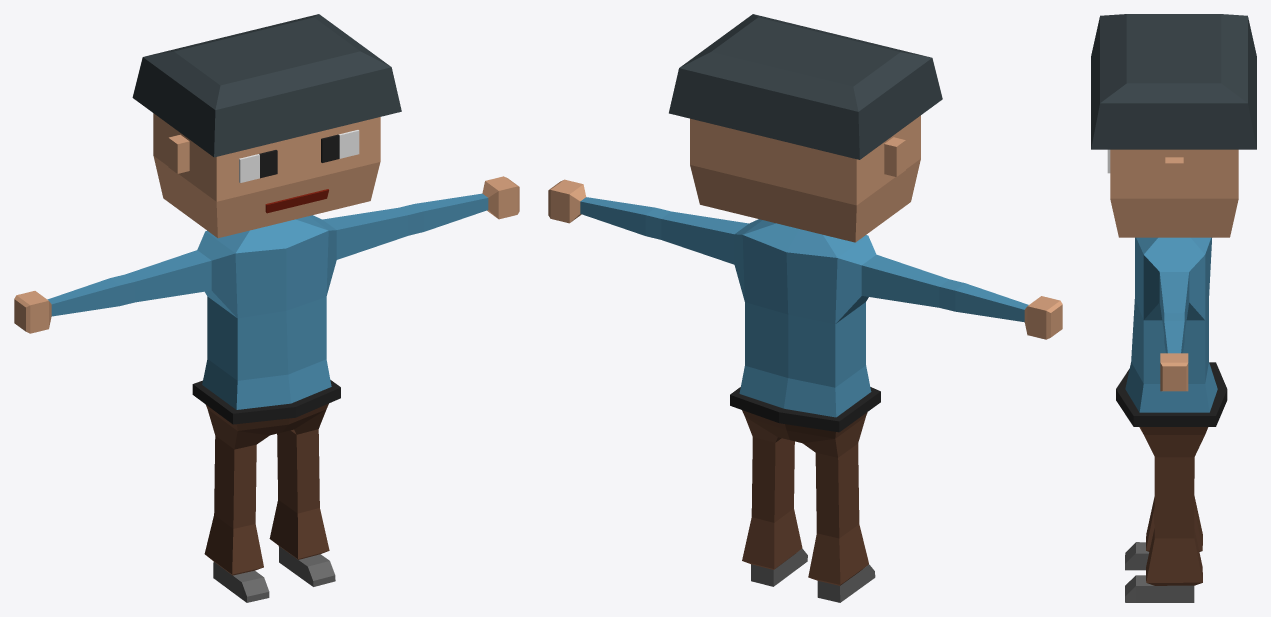
The model's file is guy1.fbx.
3 renders of one model, left to right at view 1: azimuth 30°, elevation 25°; view 2: azimuth 150°, elevation 25°; view 3: azimuth 270°, elevation 25°, orthographic.
Parts seen in each view (by area): view 1: Guy1, Guy1.hat; view 2: Guy1, Guy1.hat; view 3: Guy1, Guy1.hat.
Boxes of the visible parts, x1=… form: Guy1: x1=14, y1=113, x2=519, y2=602; Guy1.hat: x1=132, y1=14, x2=401, y2=157; Guy1: x1=548, y1=115, x2=1062, y2=602; Guy1.hat: x1=669, y1=14, x2=942, y2=159; Guy1: x1=1107, y1=149, x2=1238, y2=602; Guy1.hat: x1=1091, y1=14, x2=1256, y2=149.
Bounding box in the file's own units: 276 × 280 × 79.02.
1 material, 1 textured.
